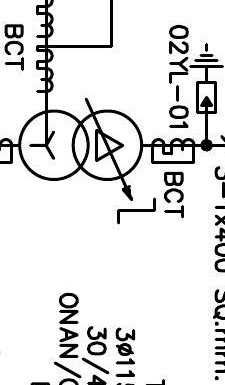11522_tx_dyn1: (17, 109, 144, 182)
